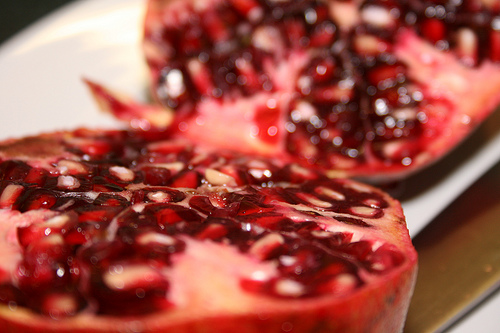pomogranate: (1, 0, 499, 332)
